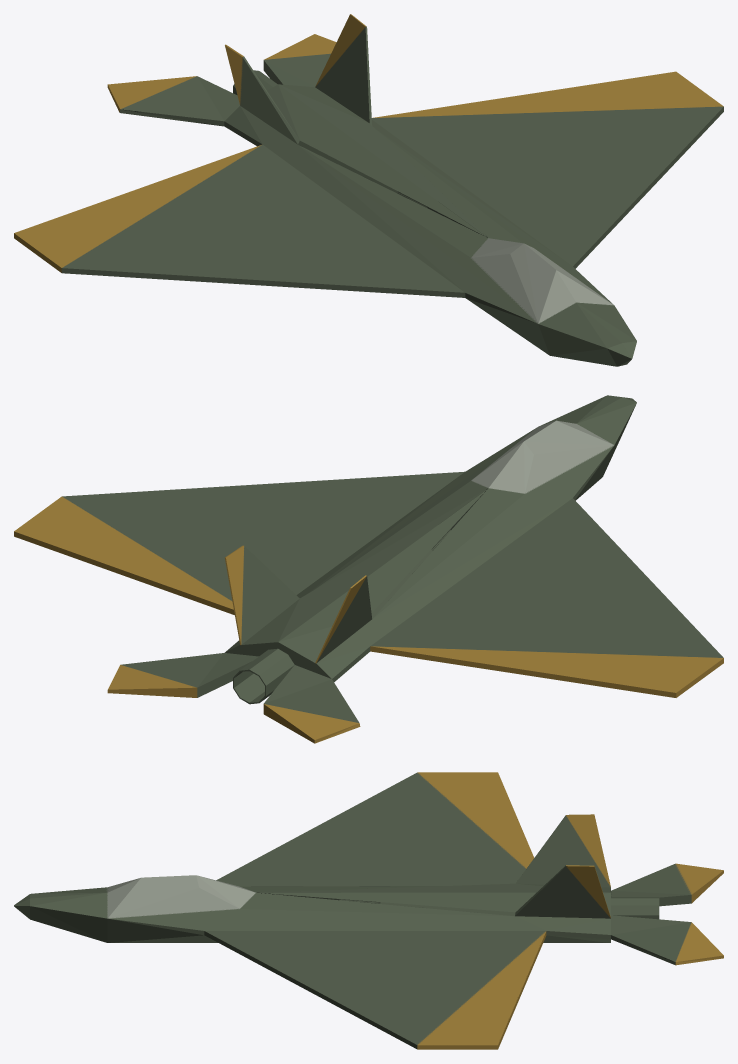
File: jet.gltf
3 views of the same model, one above another, from view 1: azimuth 30°, elevation 25°; view 2: azimuth 150°, elevation 25°; view 3: azimuth 270°, elevation 25° (orthographic). The views are drawn at different scales.
Visible parts, largest first — view 1: Jet; view 2: Jet; view 3: Jet.
Part boxes in pixels (left/top/right/bottom): Jet: left=14, top=14, right=723, bottom=366; Jet: left=14, top=395, right=723, bottom=743; Jet: left=14, top=772, right=723, bottom=1049.
Size of the model in its own units: 4 by 0.629 by 4.4.
